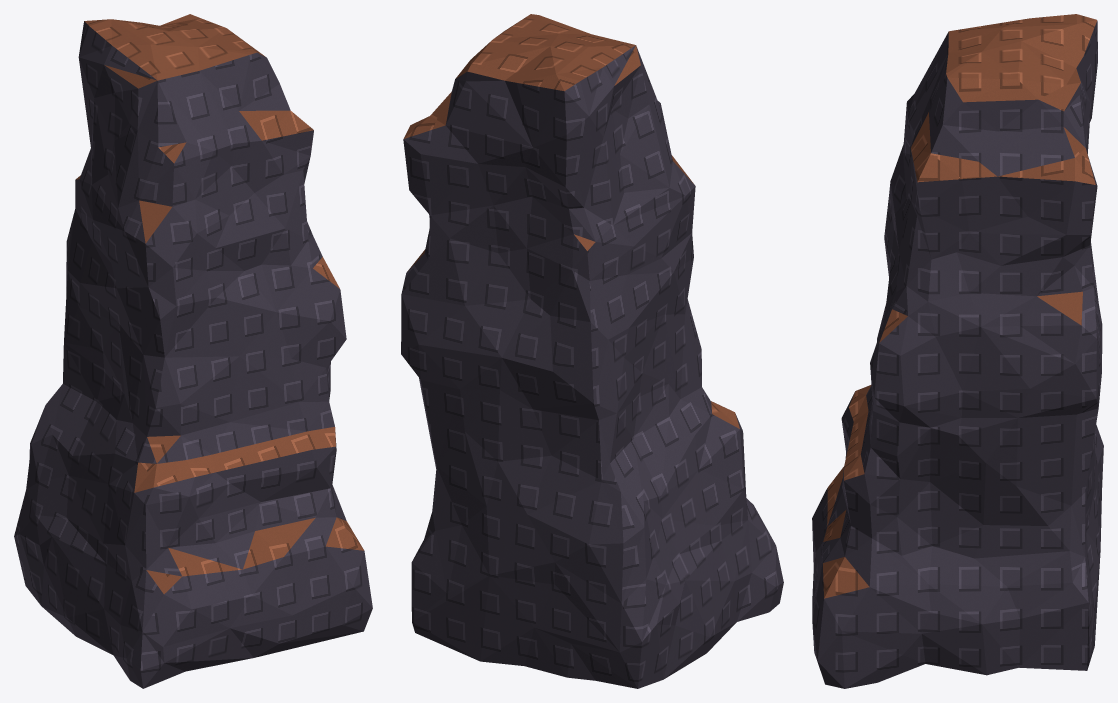
The model's file is BasaltButtress.glb.
The picture shows the model from 3 angles, left to right: view 1: azimuth 30°, elevation 25°; view 2: azimuth 150°, elevation 25°; view 3: azimuth 270°, elevation 25°; orthographic projection. The views are drawn at different scales.
Visible parts, largest first — view 1: BasaltButtress_Rock, BasaltButtress_Top; view 2: BasaltButtress_Rock, BasaltButtress_Top; view 3: BasaltButtress_Rock, BasaltButtress_Top.
Part boxes in pixels (x1=…): BasaltButtress_Rock: x1=14, y1=21, x2=372, y2=688; BasaltButtress_Top: x1=76, y1=14, x2=363, y2=593; BasaltButtress_Rock: x1=401, y1=45, x2=783, y2=688; BasaltButtress_Top: x1=403, y1=14, x2=739, y2=428; BasaltButtress_Rock: x1=812, y1=21, x2=1103, y2=688; BasaltButtress_Top: x1=823, y1=14, x2=1097, y2=598.
Size of the model in its own units: 7.18 by 16.03 by 7.1.
Materials: 2 (2 with a texture image).
